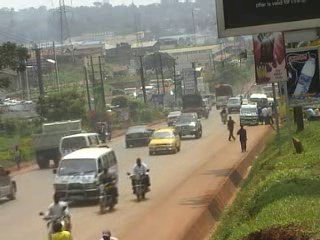Car: (173, 110, 206, 143), (146, 127, 183, 156), (0, 163, 21, 203), (121, 123, 156, 146), (164, 109, 183, 126)
Motorcycle: (36, 200, 76, 238), (124, 161, 154, 202), (94, 172, 123, 214), (216, 106, 231, 124)
